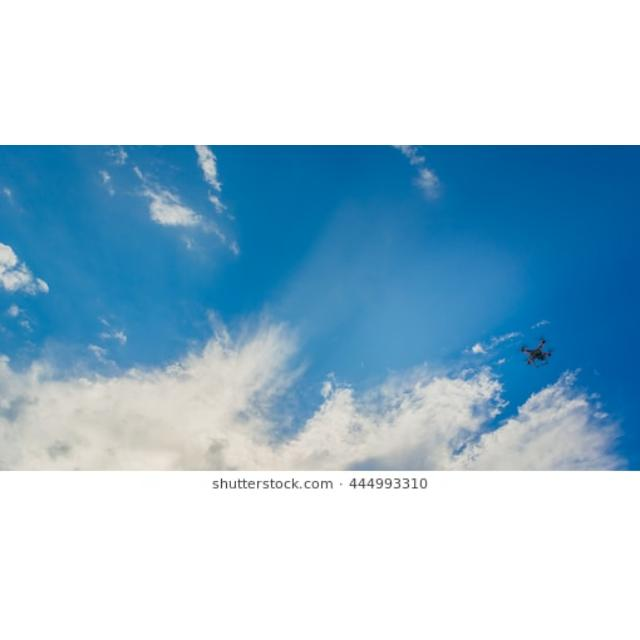Drones: (519, 336, 557, 368)
